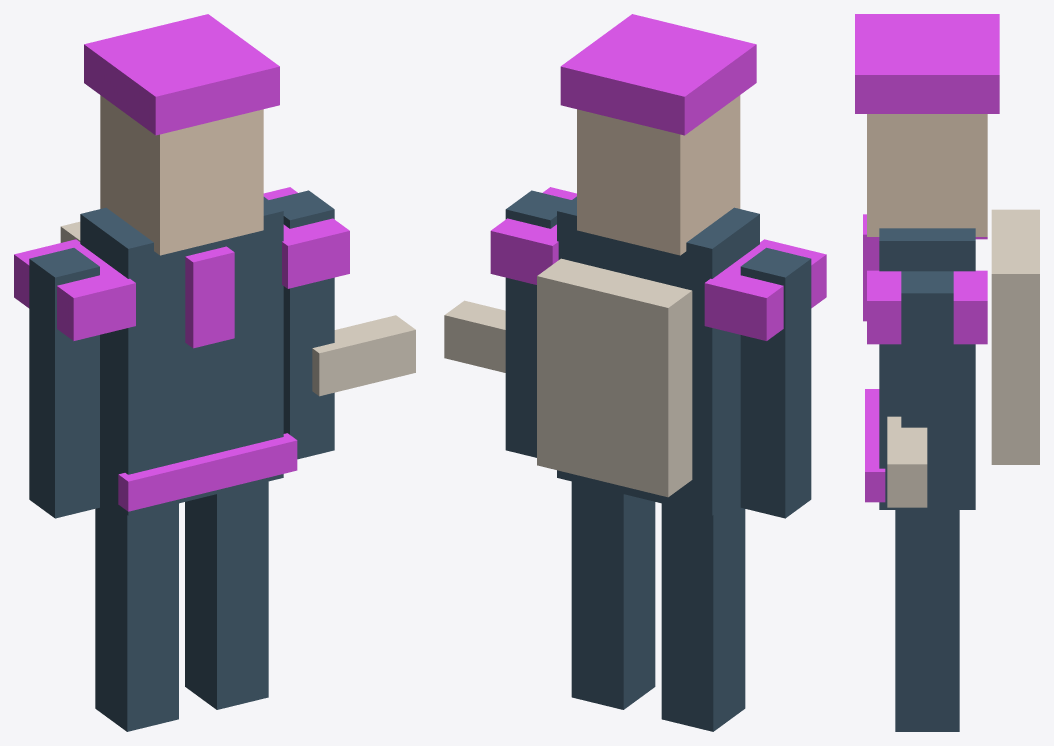
Rendered from 19_vexa_trenchmark_engineer_of_reality.glb.
3 views of the same model, side by side, from view 1: azimuth 30°, elevation 25°; view 2: azimuth 150°, elevation 25°; view 3: azimuth 270°, elevation 25° (orthographic).
Parts seen in each view (by area): view 1: Vexa Trenchmark, Engineer of Reality; view 2: Vexa Trenchmark, Engineer of Reality; view 3: Vexa Trenchmark, Engineer of Reality.
Part boxes in pixels (x1,y1,x2,y2): Vexa Trenchmark, Engineer of Reality: [14, 14, 415, 731]; Vexa Trenchmark, Engineer of Reality: [444, 14, 826, 731]; Vexa Trenchmark, Engineer of Reality: [855, 14, 1039, 731].
Size of the model in its own units: 0.9765 by 1.71 by 0.4382.
